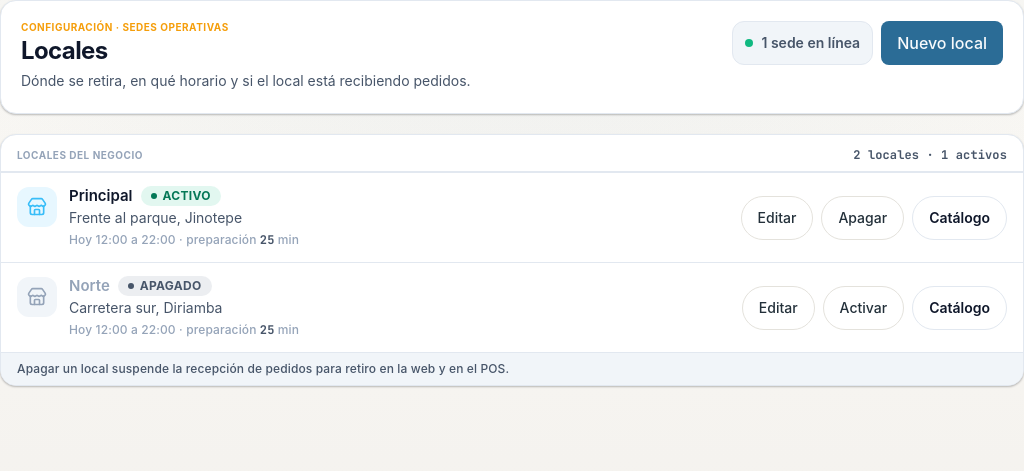
Test: AdminLocationsPage › activa un local apagado de un toque
Click the button with aria-label "Activar Norte": (863, 308) [823,286,904,330]
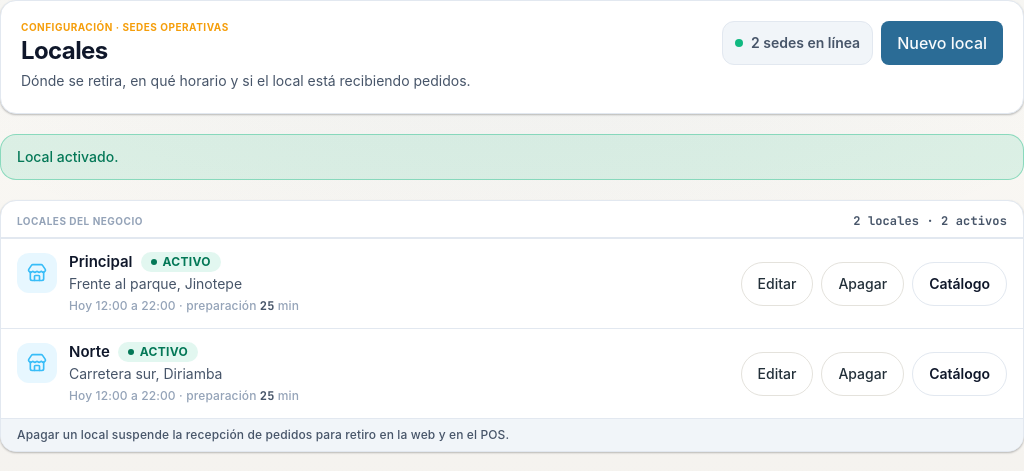
expect the text "Local activado." is shown: met, box [0,134,1023,180]
